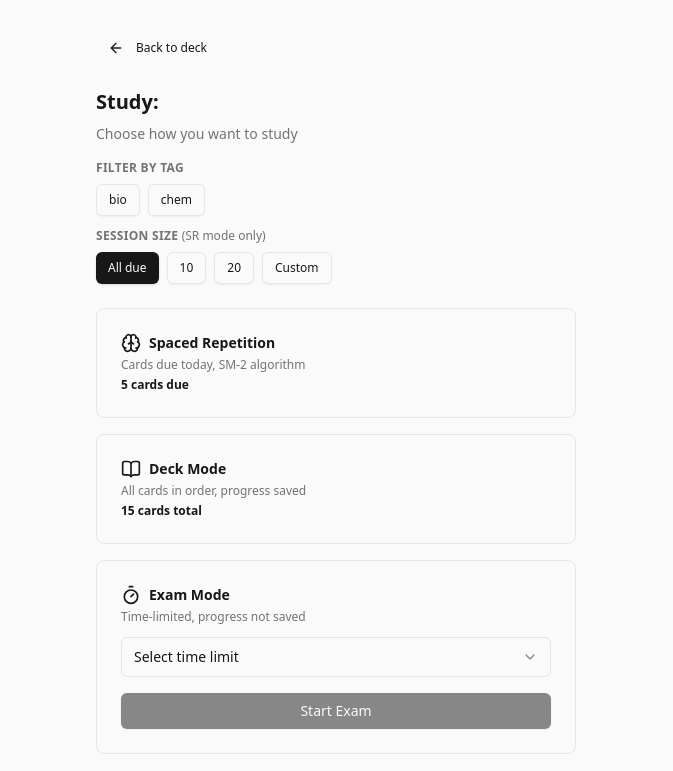
Scenario: StudySessionPage config section › STUDY-02a: sessionSize=10, SR mode — SessionRunner receives at most 10 cards
Expected: the text "Session size (SR mode only)" is shown, top-left (96, 227), bottom-right (266, 244)
Note: Click the "10" segmented button
What coordinates should you click on to do the following:
click the button "10"
I would click on:
 (186, 268)
Its box is top-left (166, 252), bottom-right (206, 284).
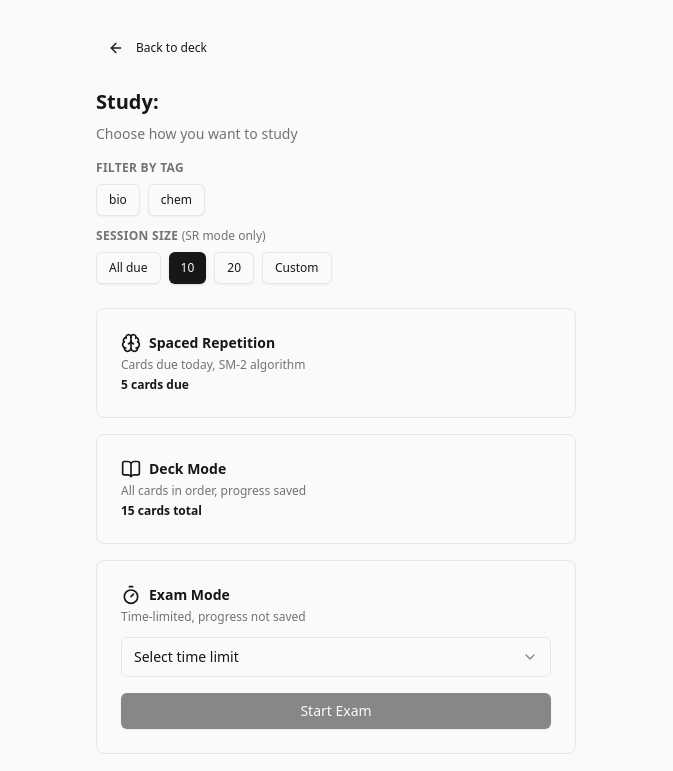
Now the button "10" has class "bg-primary", box top-left (168, 252), bottom-right (206, 284)
What coordinates should you click on to do the following:
click the button "Spaced Repetition"
I would click on:
 (212, 342)
Its box is top-left (96, 308), bottom-right (576, 418).
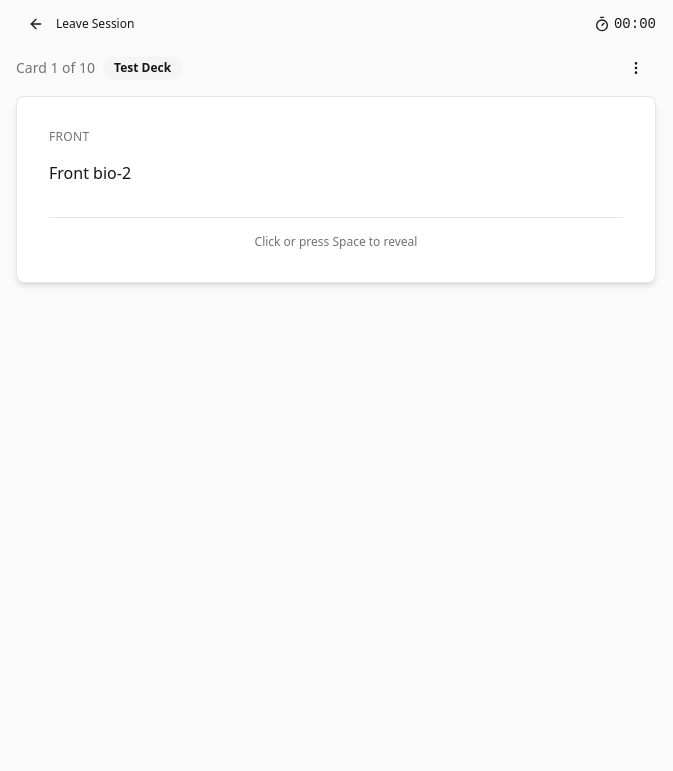
Now the text "Card 1 of 10" is shown, box top-left (16, 58), bottom-right (95, 78)
